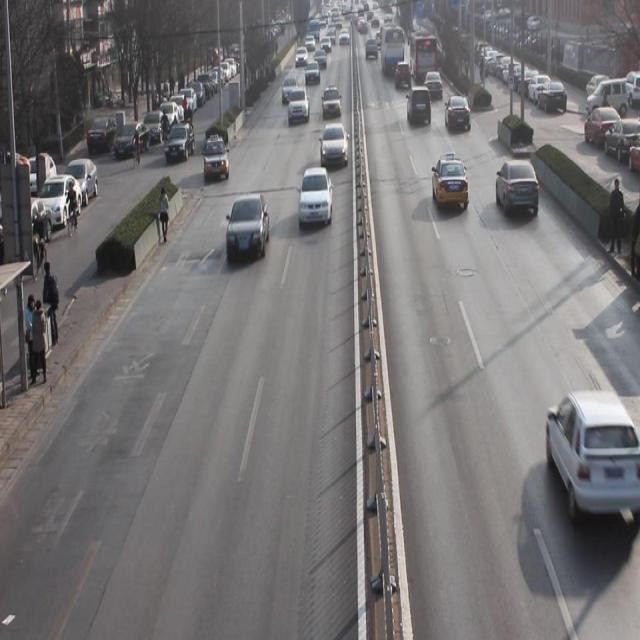car: (547, 388, 627, 528), (227, 196, 270, 264), (494, 163, 540, 220), (299, 165, 334, 230), (432, 152, 469, 213), (203, 136, 230, 183), (320, 126, 350, 167), (444, 94, 472, 137), (407, 84, 433, 126), (288, 88, 309, 125), (424, 70, 444, 102), (322, 88, 341, 119), (281, 73, 298, 104), (394, 60, 411, 89), (304, 62, 320, 87)
